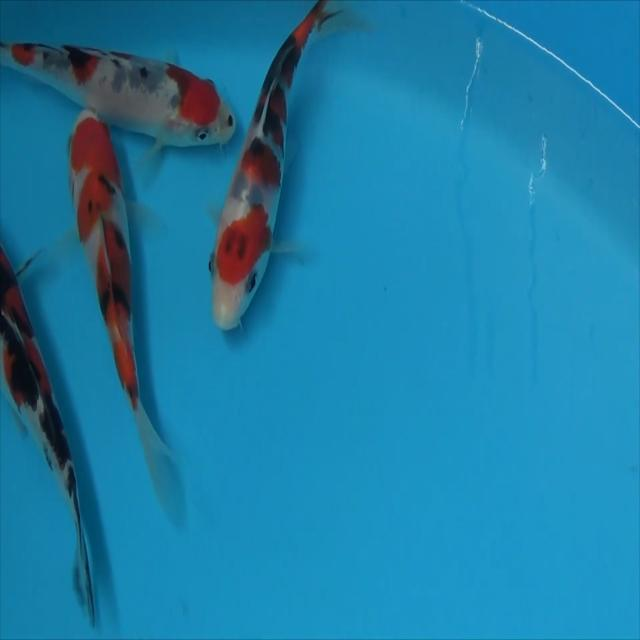Sanke: (66, 107, 188, 533), (207, 0, 343, 332), (0, 242, 96, 629), (0, 39, 236, 162)
